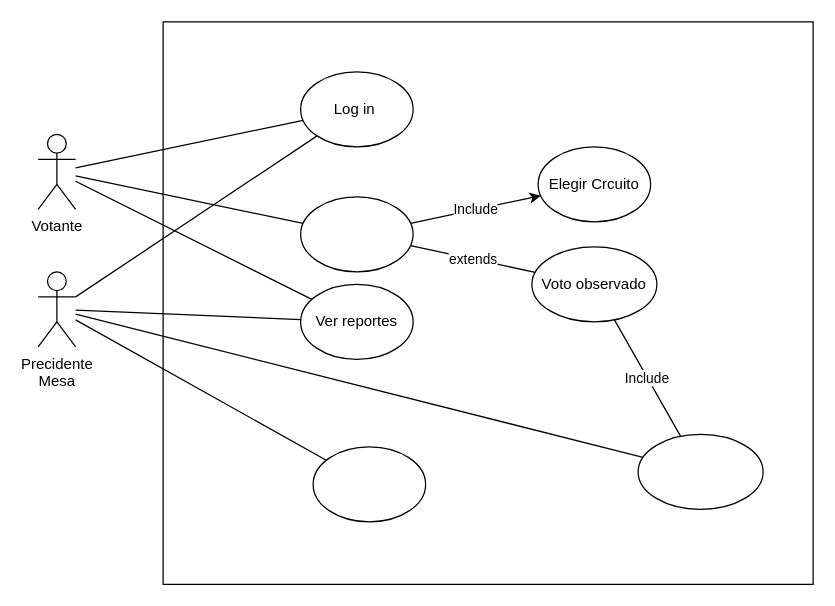
Image size: 835x606. Some labels were removed from this diagram. The box of each missing label's shape, as (x1, y1, x2, y2) in pixels:
Autorizar voto observado: (637, 433, 763, 509)
Cerrar mesa de votación: (312, 446, 426, 522)
Emitir Voto: (299, 196, 413, 272)
